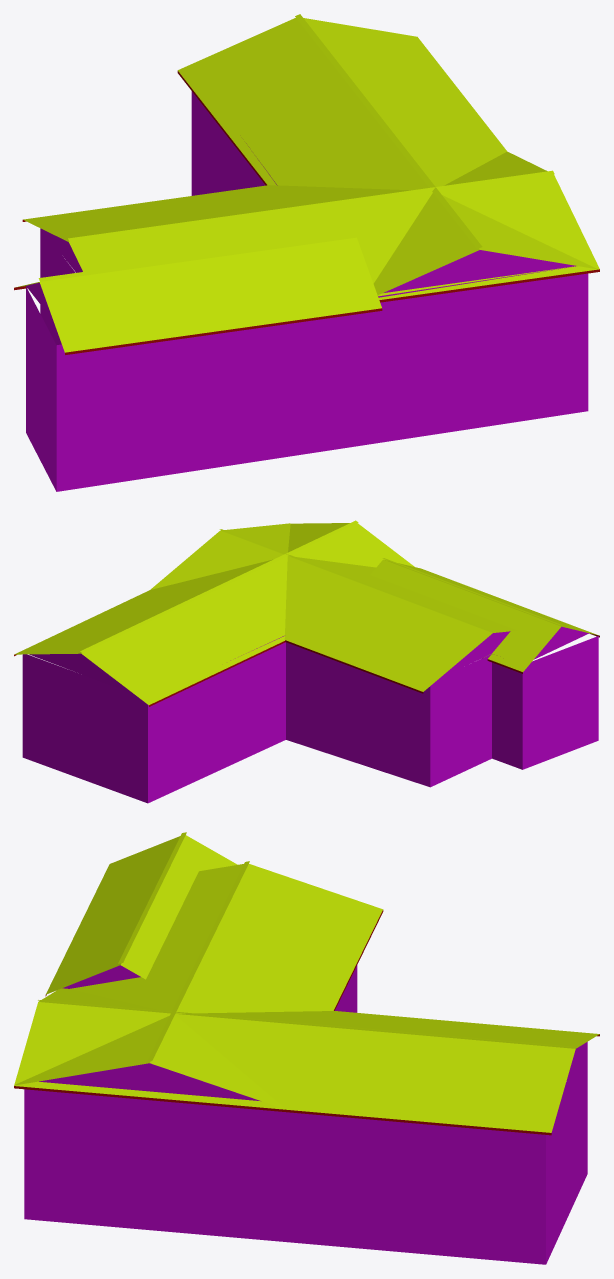
File: bgj_344.glb
The picture shows the model from 3 angles, top to bottom: view 1: azimuth 30°, elevation 25°; view 2: azimuth 150°, elevation 25°; view 3: azimuth 270°, elevation 25°; orthographic projection. The views are drawn at different scales.
Parts seen in each view (by area): view 1: bgj_344; view 2: bgj_344; view 3: bgj_344.
Part boxes in pixels (x1=…): bgj_344: x1=14, y1=14, x2=599, y2=491; bgj_344: x1=14, y1=520, x2=599, y2=803; bgj_344: x1=14, y1=832, x2=599, y2=1264.
Size of the model in its own units: 29.1 by 8.64 by 26.49.
